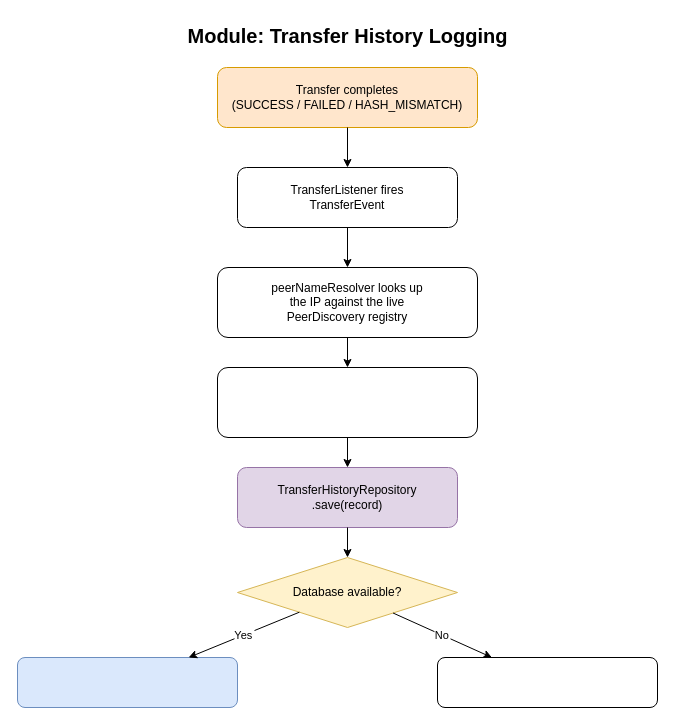
The diagram is 675 pixels wide and 725 high, and some of its shapes have lost their labels. Each missing label, with the box of its shape:
Append to in-memory list for this session only: (436, 656, 658, 708)
Build TransferRecord (peer, filename, size, hash, direction, status, timestamp): (216, 366, 478, 438)
INSERT into MySQL transfer_history table: (16, 656, 238, 708)
